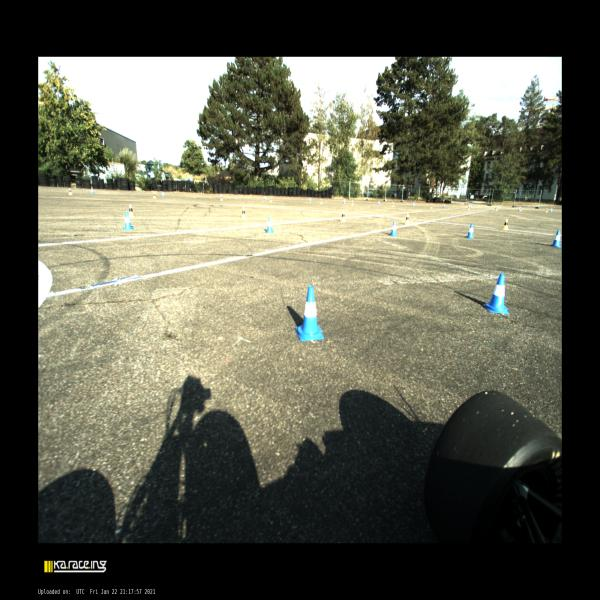blue_cone: (295, 286, 324, 341), (483, 274, 509, 314), (552, 230, 562, 248), (123, 212, 133, 229), (266, 217, 274, 233), (390, 221, 398, 236), (466, 224, 474, 239), (91, 188, 94, 193), (161, 192, 164, 197)
yellow_cone: (502, 218, 508, 230), (340, 212, 345, 222), (405, 214, 409, 225), (68, 189, 73, 195), (220, 194, 222, 200)
